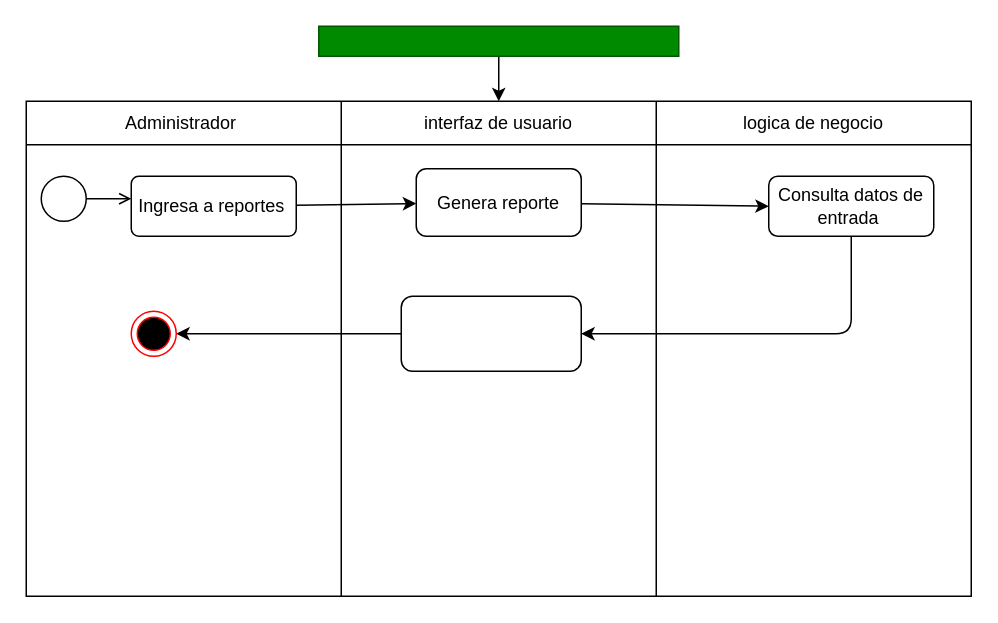
Some shapes in this 998 by 623 pixel diagram are drawn without their labels. Each missing label, with the box of its shape:
GENERAR REPORTES DE COMISIONES: (317, 25, 679, 56)
Muestra un excel de datos de entrada: (400, 295, 581, 371)
